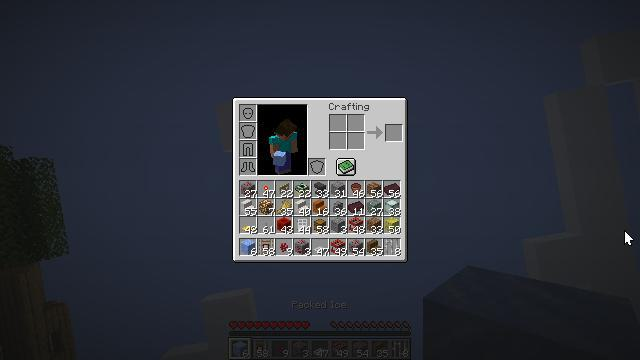cursor: (624, 230, 634, 246)
